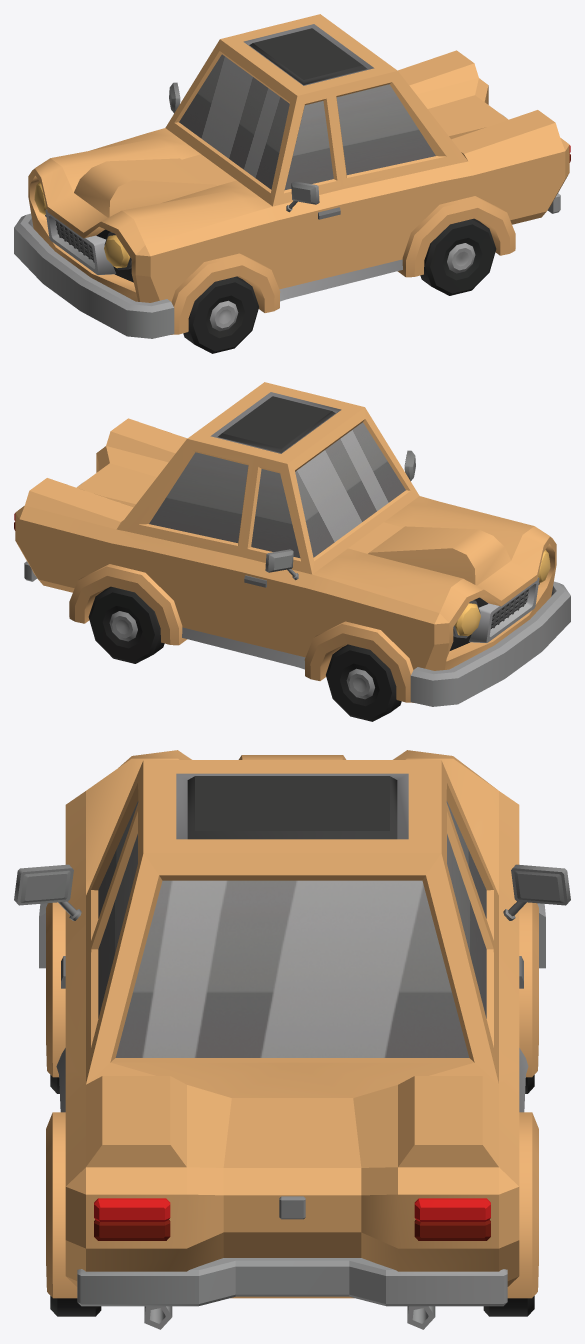
File: Car_17_P.gltf
The picture shows the model from 3 angles, top to bottom: view 1: azimuth 30°, elevation 25°; view 2: azimuth 150°, elevation 25°; view 3: azimuth 270°, elevation 25°; orthographic projection. The views are drawn at different scales.
Visible parts, largest first — view 1: Car_17_P, RL, FL; view 2: Car_17_P, RR, FR; view 3: Car_17_P, RL, RR.
Part boxes in pixels (x1,y1,x2,y2): Car_17_P: [14, 14, 570, 338]; RL: [420, 218, 496, 295]; FL: [183, 276, 258, 353]; Car_17_P: [14, 382, 570, 706]; RR: [88, 586, 164, 663]; FR: [326, 644, 401, 721]; Car_17_P: [14, 750, 570, 1329]; RL: [50, 1296, 101, 1316]; RR: [483, 1296, 534, 1316].
Size of the model in its own units: 3.39 by 1.53 by 1.85.
4 materials, 4 textured.
